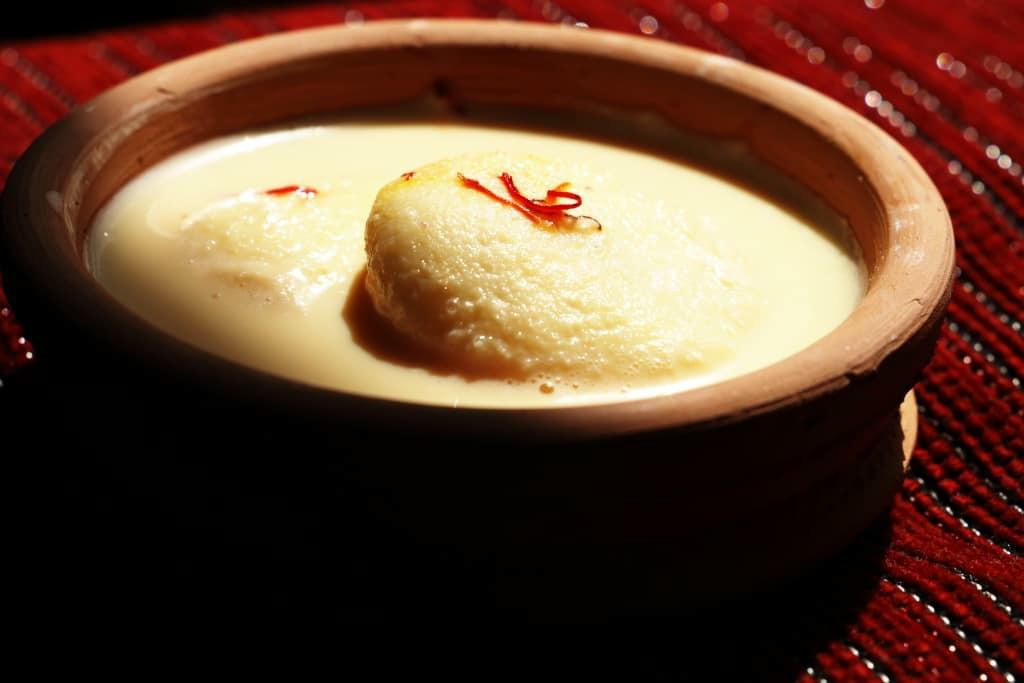RasMalai: (83, 124, 871, 403)
